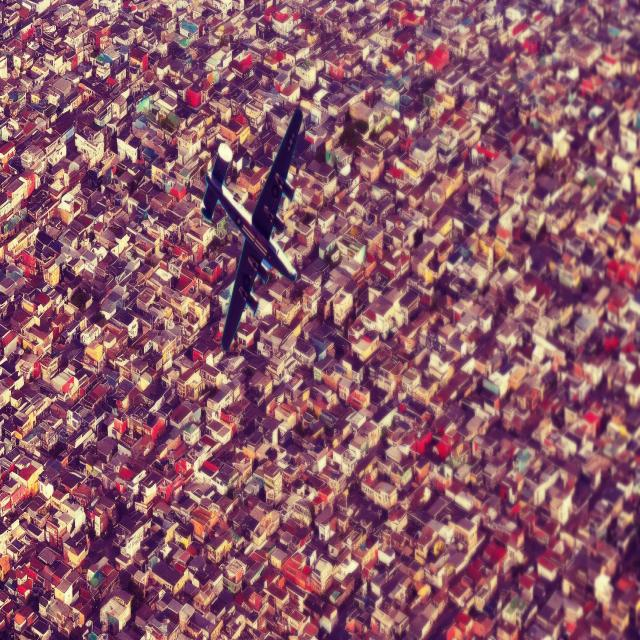airplane: (200, 106, 303, 353)
